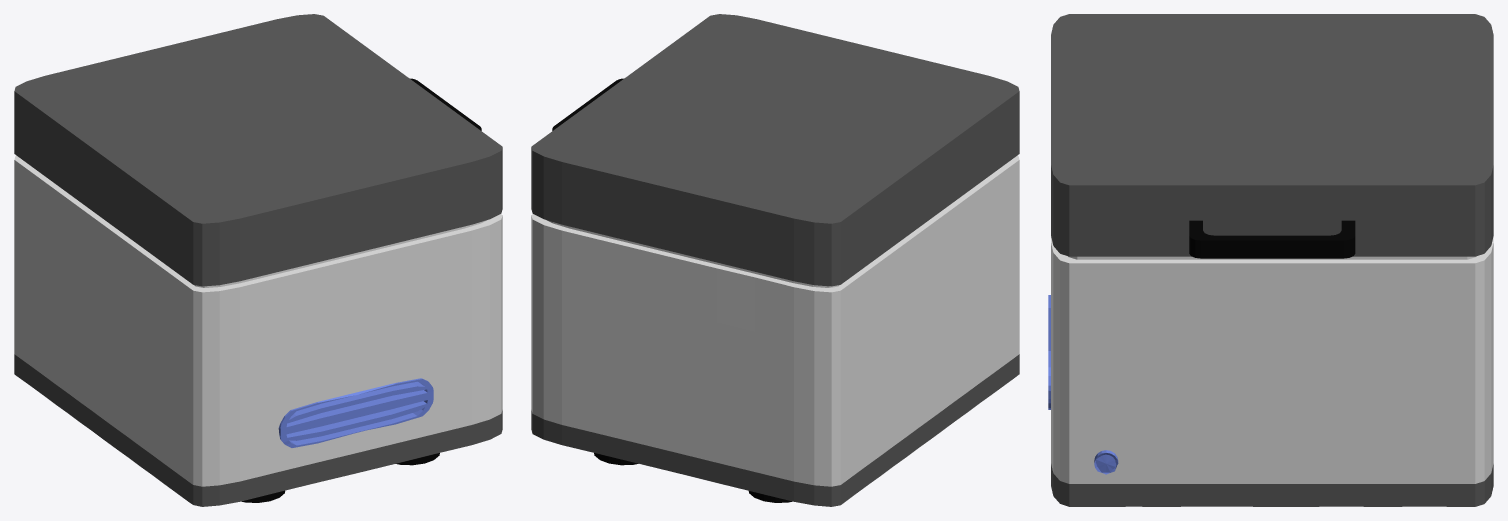
File: Spawner.fbx
3 renders of one model, left to right at view 1: azimuth 30°, elevation 25°; view 2: azimuth 150°, elevation 25°; view 3: azimuth 270°, elevation 25°, orthographic. The views are drawn at different scales.
Visible parts, largest first — view 1: Cube; view 2: Cube; view 3: Cube.
Part boxes in pixels (x1,y1,x2,y2): Cube: (14, 14, 502, 506); Cube: (531, 14, 1019, 506); Cube: (1048, 14, 1493, 506).
Size of the model in its own units: 223 by 184 by 220.
